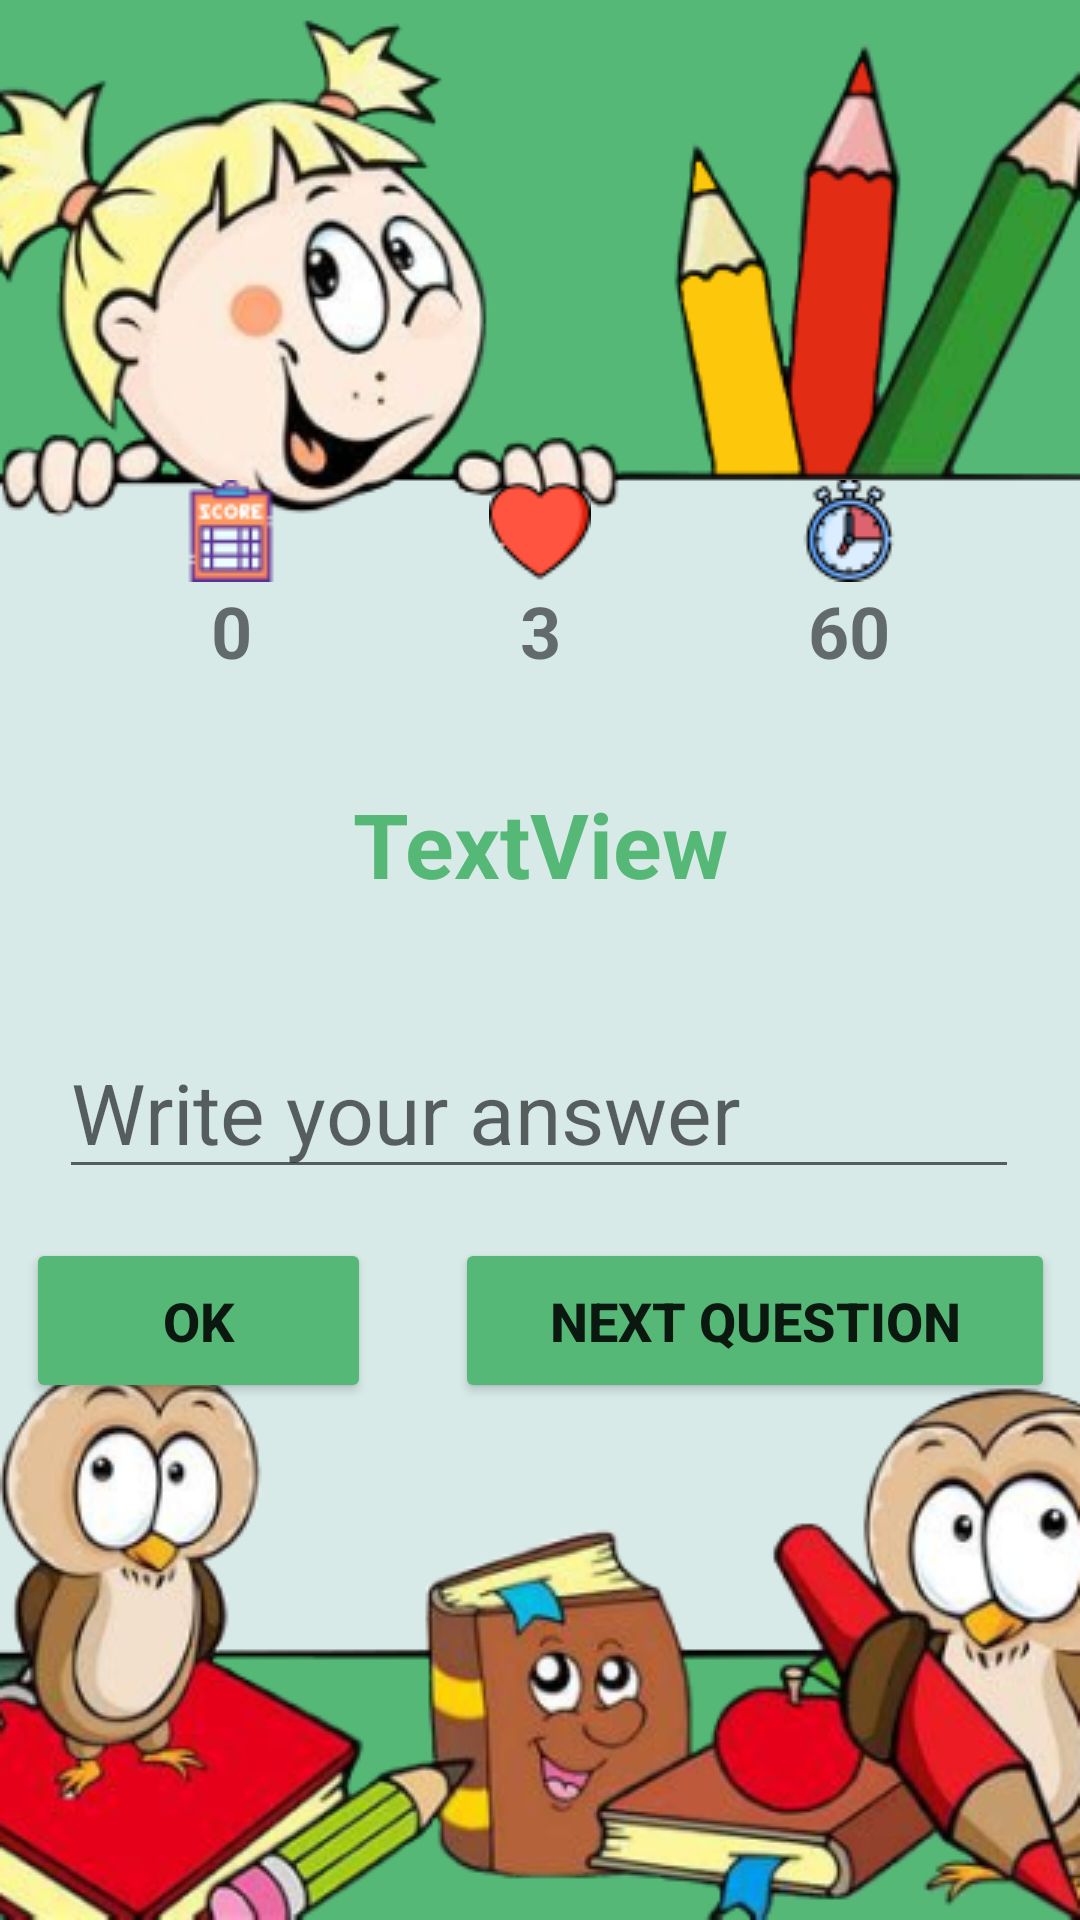

Icon bounding boxes for this 1080x1920 phone screenshot, format box(x1, y1, x2, y2):
Life: box(489, 480, 591, 580)
Time: box(798, 480, 900, 582)
